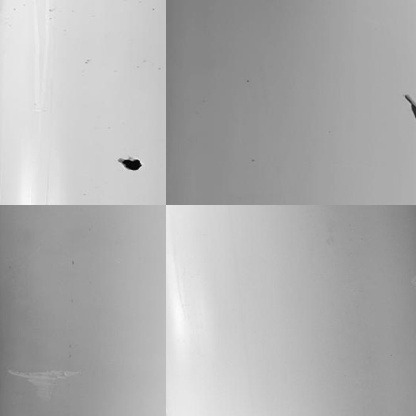fengxi: (403, 95, 416, 118)
kongdong: (115, 155, 148, 173)
sunshang: (8, 364, 84, 401)
